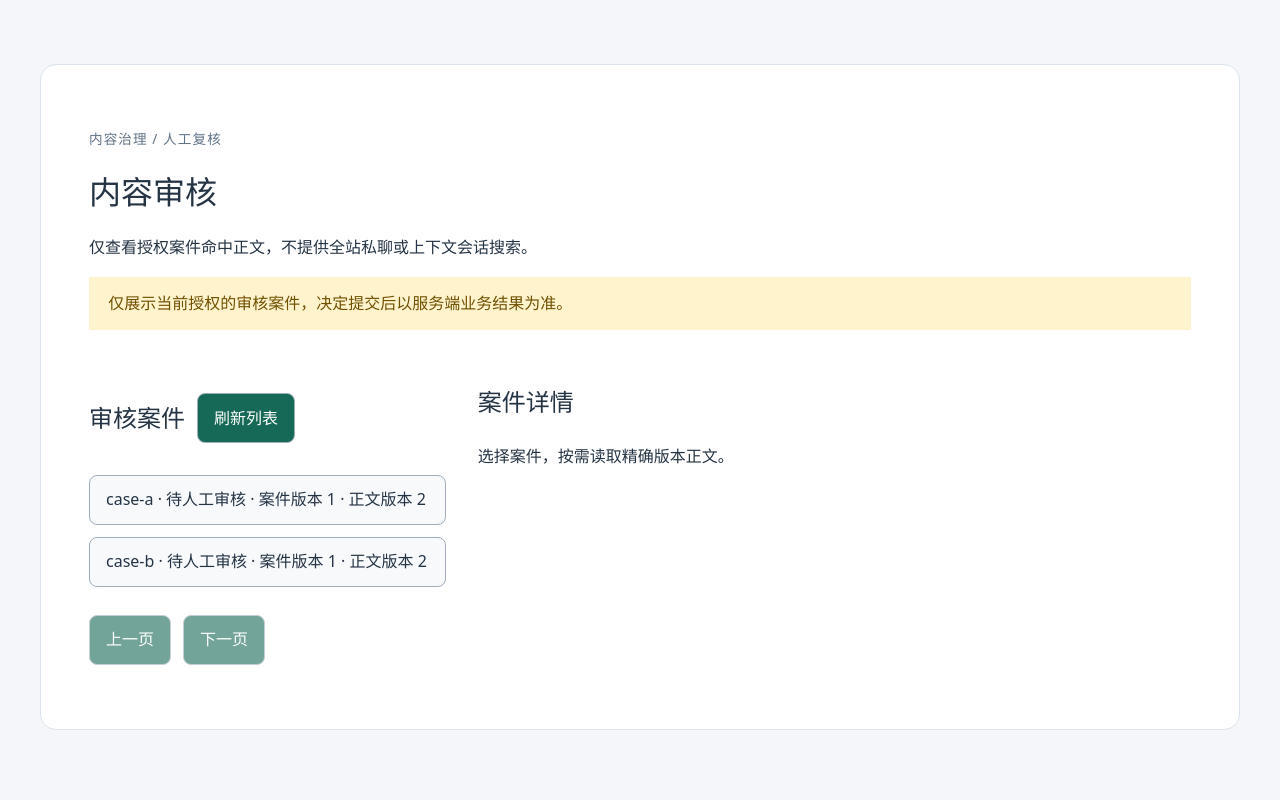
T017 真实内容审核页面交互 › 409重读期间切案，旧冲突提示不污染新案
This screenshot has width=1280, height=800.
Click the button "case-a · 待人工审核 · 案件版本 1 · 正文版本 2": (267, 500) [89,475,446,525]
(page scrolled)
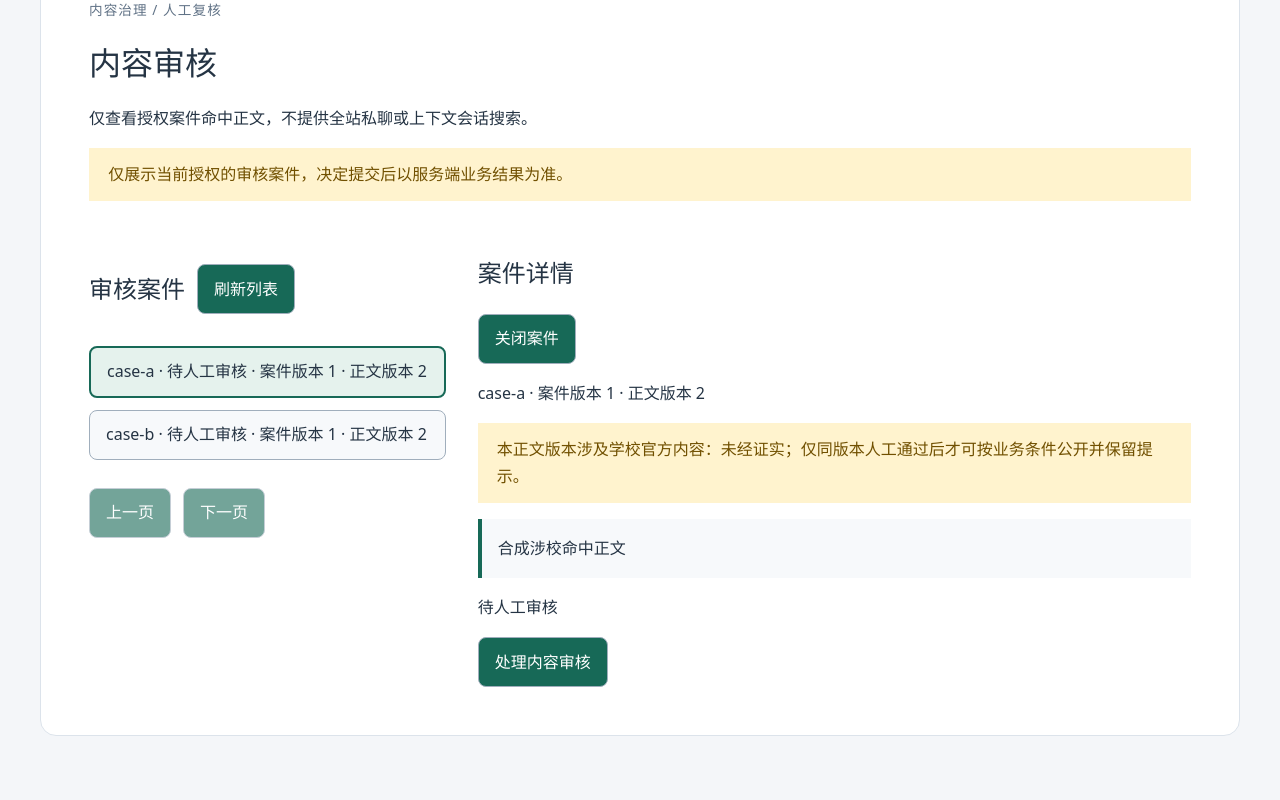
Click the button "处理内容审核": (543, 662) [478,637,608,687]
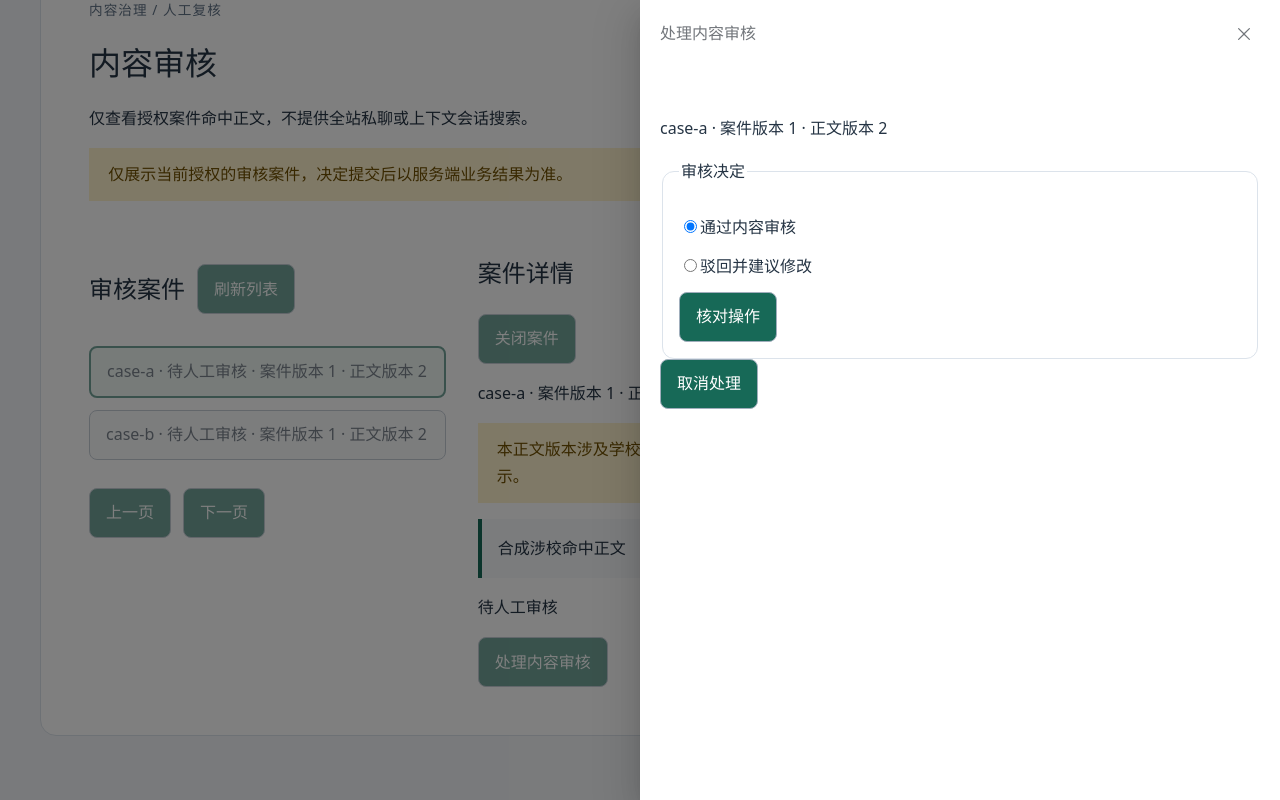
Submit the form, box [660,158,1260,359]
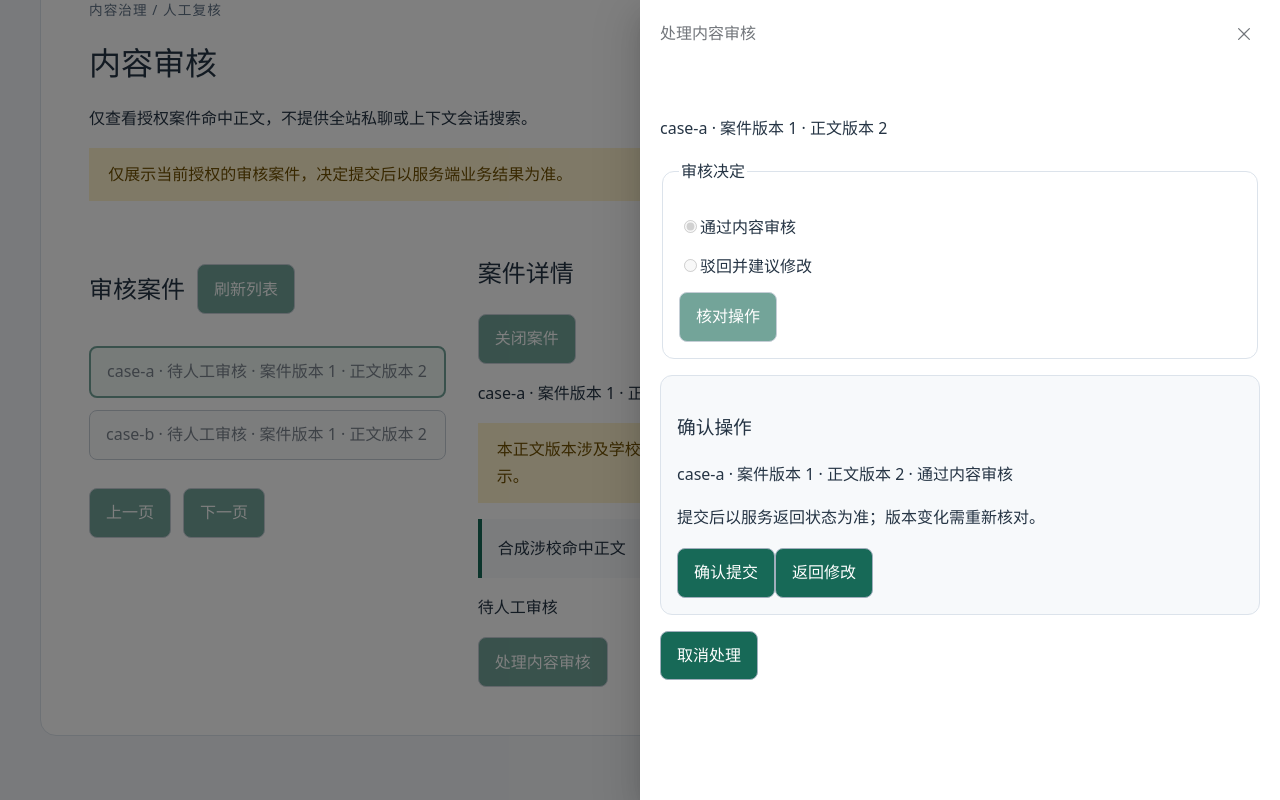
Click the button "确认提交": (726, 572) [677,548,775,598]
(page scrolled)
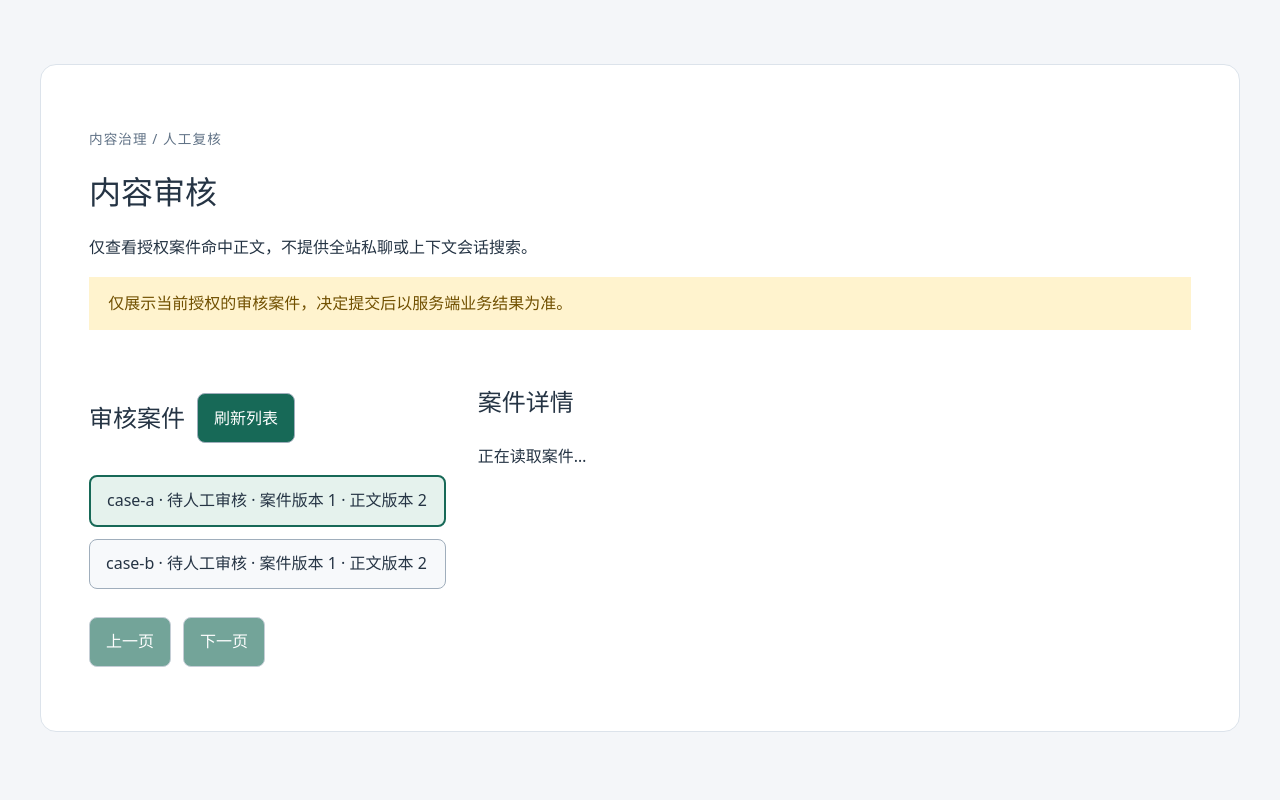
Click the button "case-b · 待人工审核 · 案件版本 1 · 正文版本 2": (267, 564) [89,539,446,589]
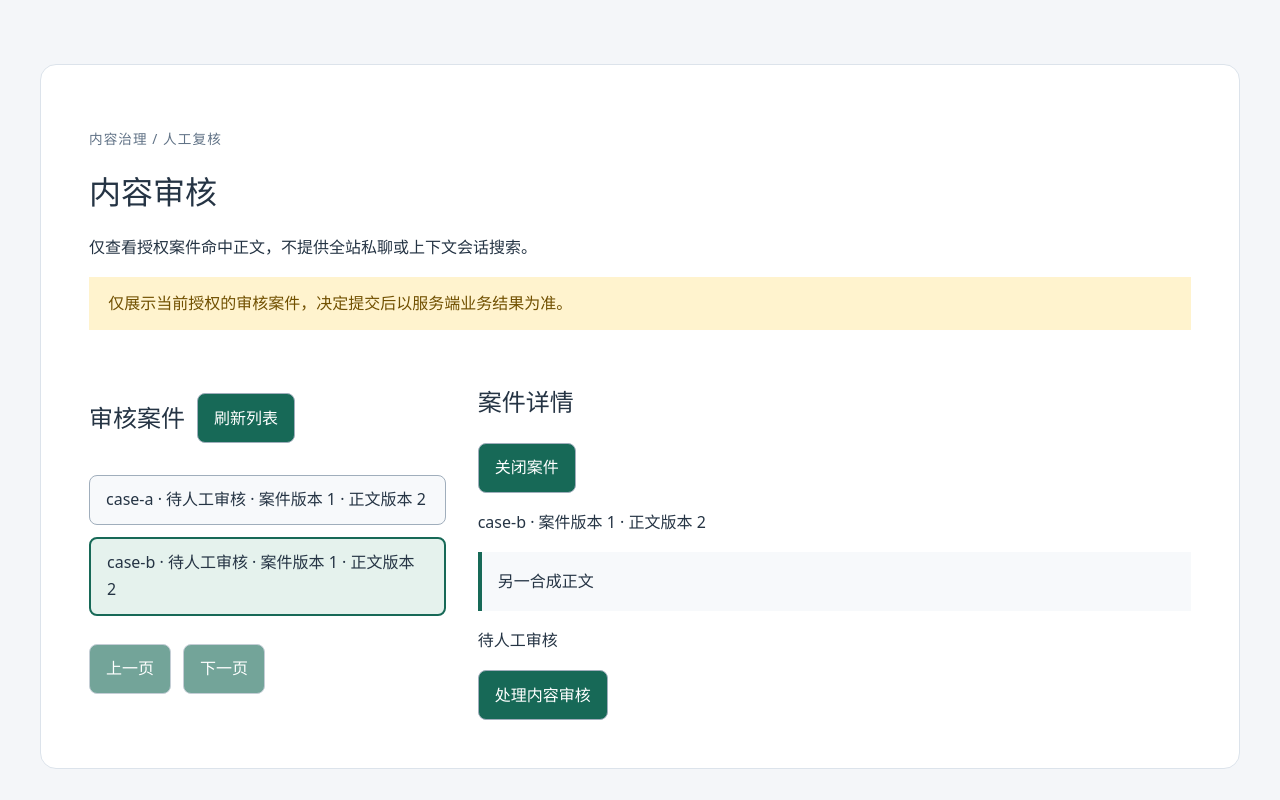
Expected: the text "另一合成正文" is shown, [478,552,1191,611]
